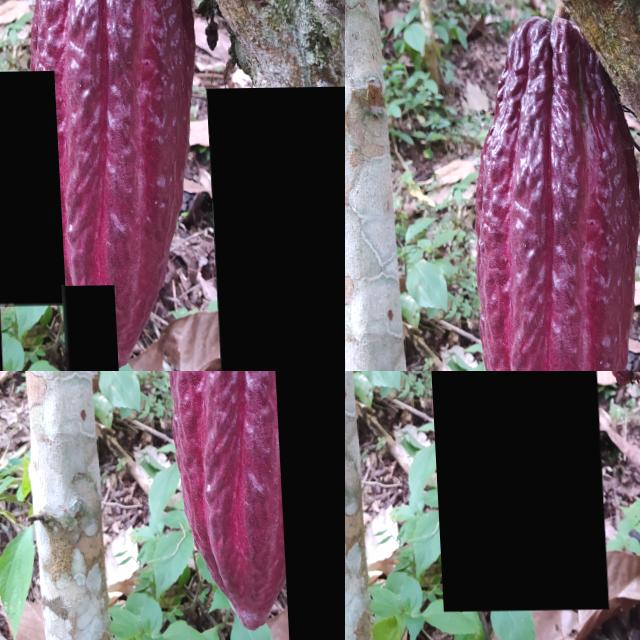Monilia: (203, 88, 345, 371)
Sana: (416, 371, 602, 612), (265, 371, 345, 640), (0, 72, 60, 307), (508, 255, 570, 345), (56, 286, 115, 371), (422, 343, 496, 371)
